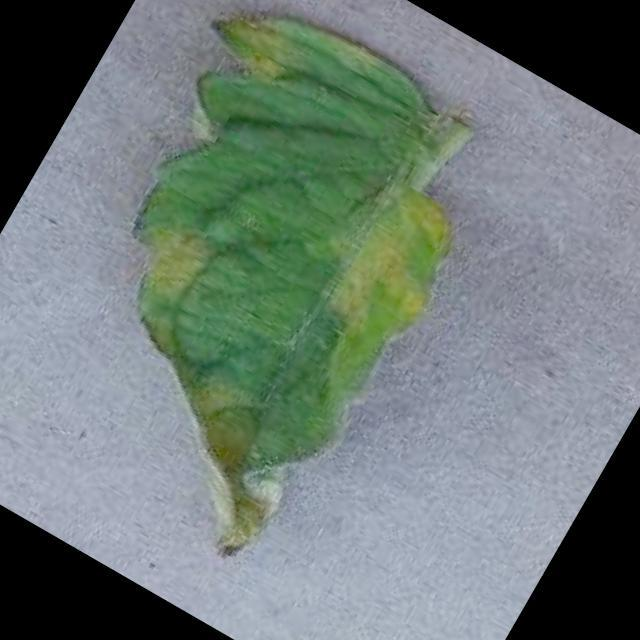Tomato mold leaf: (0, 0, 523, 582)
